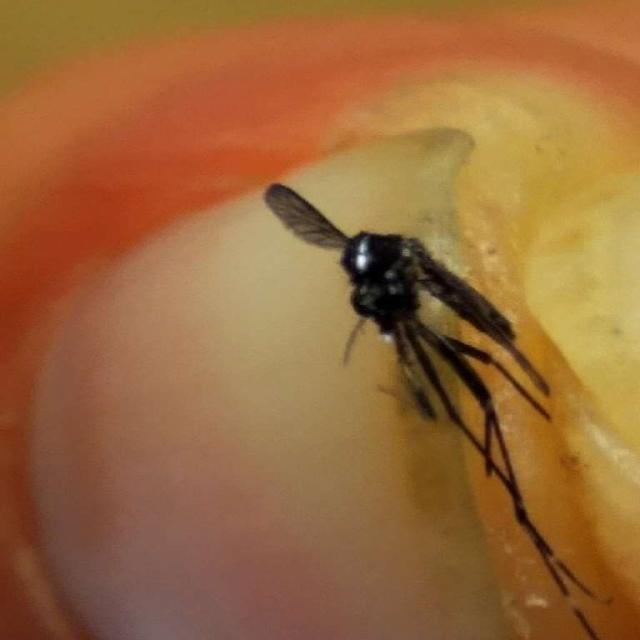albopictus: (247, 168, 614, 604)
